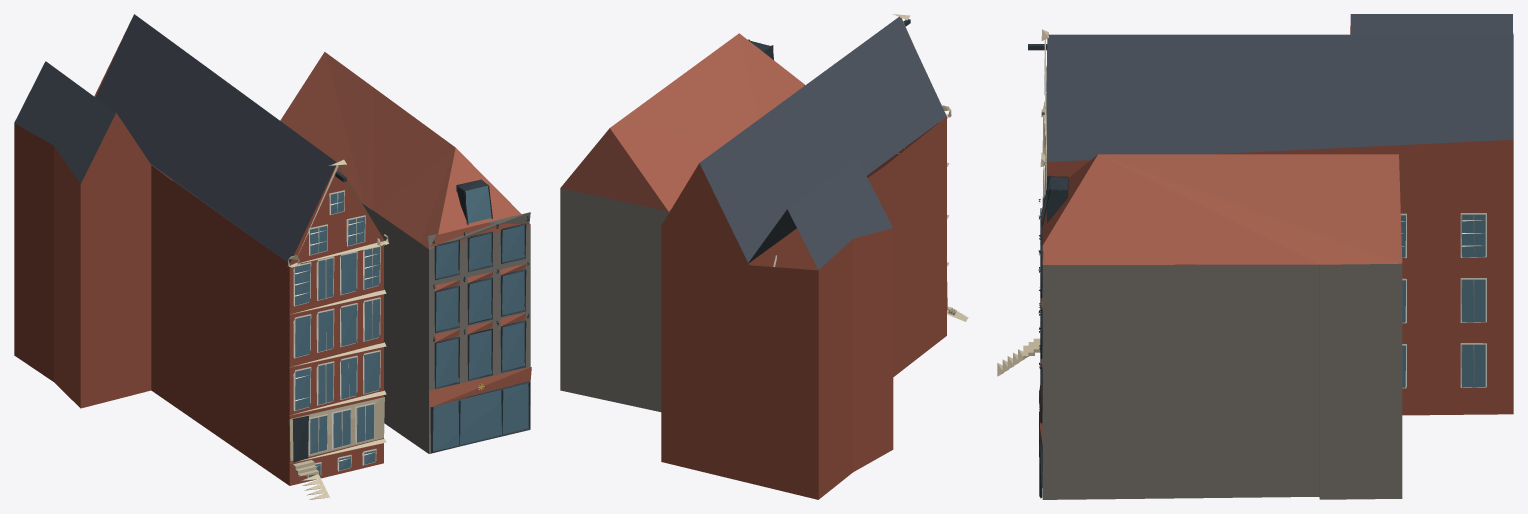
The model's file is ons-lieve-heer-op-solder.lod1.glb.
The picture shows the model from 3 angles, left to right: view 1: azimuth 30°, elevation 25°; view 2: azimuth 150°, elevation 25°; view 3: azimuth 270°, elevation 25°; orthographic projection. The views are drawn at different scales.
Parts seen in each view (by area): view 1: ons-lieve-heer-op-solder; view 2: ons-lieve-heer-op-solder; view 3: ons-lieve-heer-op-solder.
Boxes of the visible parts, box(x1,y1,x2,y2) form: ons-lieve-heer-op-solder: box(14, 14, 531, 499); ons-lieve-heer-op-solder: box(560, 14, 968, 499); ons-lieve-heer-op-solder: box(997, 14, 1513, 499).
Size of the model in its own units: 21 by 19.85 by 25.89.
